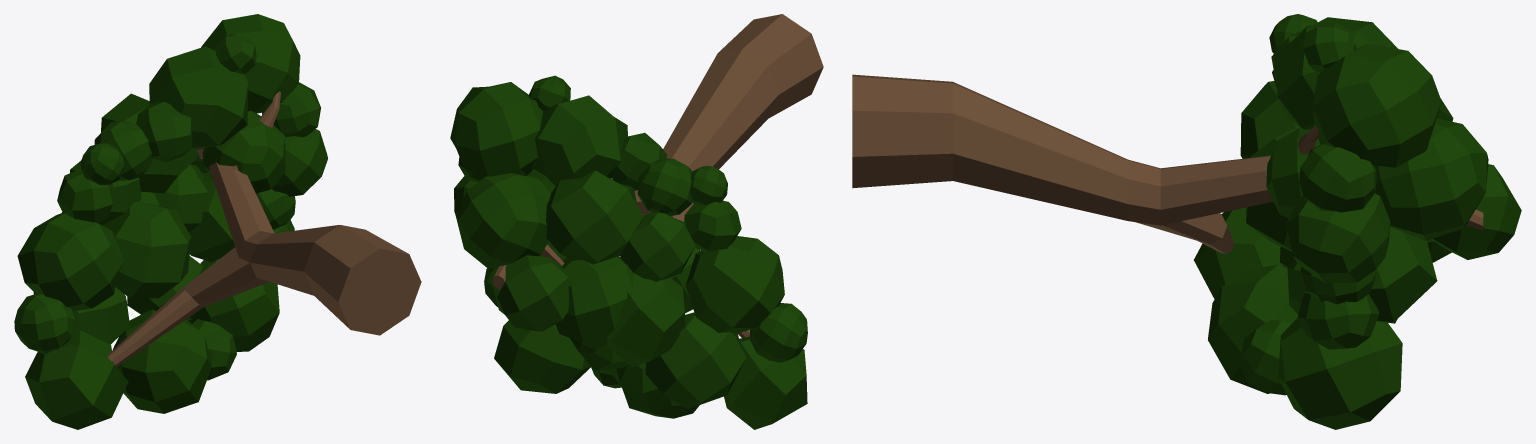
The model's file is M_tree1.fbx.
3 renders of one model, left to right at view 1: azimuth 30°, elevation 25°; view 2: azimuth 150°, elevation 25°; view 3: azimuth 270°, elevation 25°, orthographic. The views are drawn at different scales.
Visible parts, largest first — view 1: pasted__leaf2; view 2: pasted__leaf2; view 3: pasted__leaf2.
Boxes of the visible parts, x1,y1,x2,y2 form: pasted__leaf2: [14, 14, 421, 429]; pasted__leaf2: [450, 14, 823, 429]; pasted__leaf2: [852, 14, 1521, 429].
Bounding box in the file's own units: 32.16 × 31.02 × 45.
